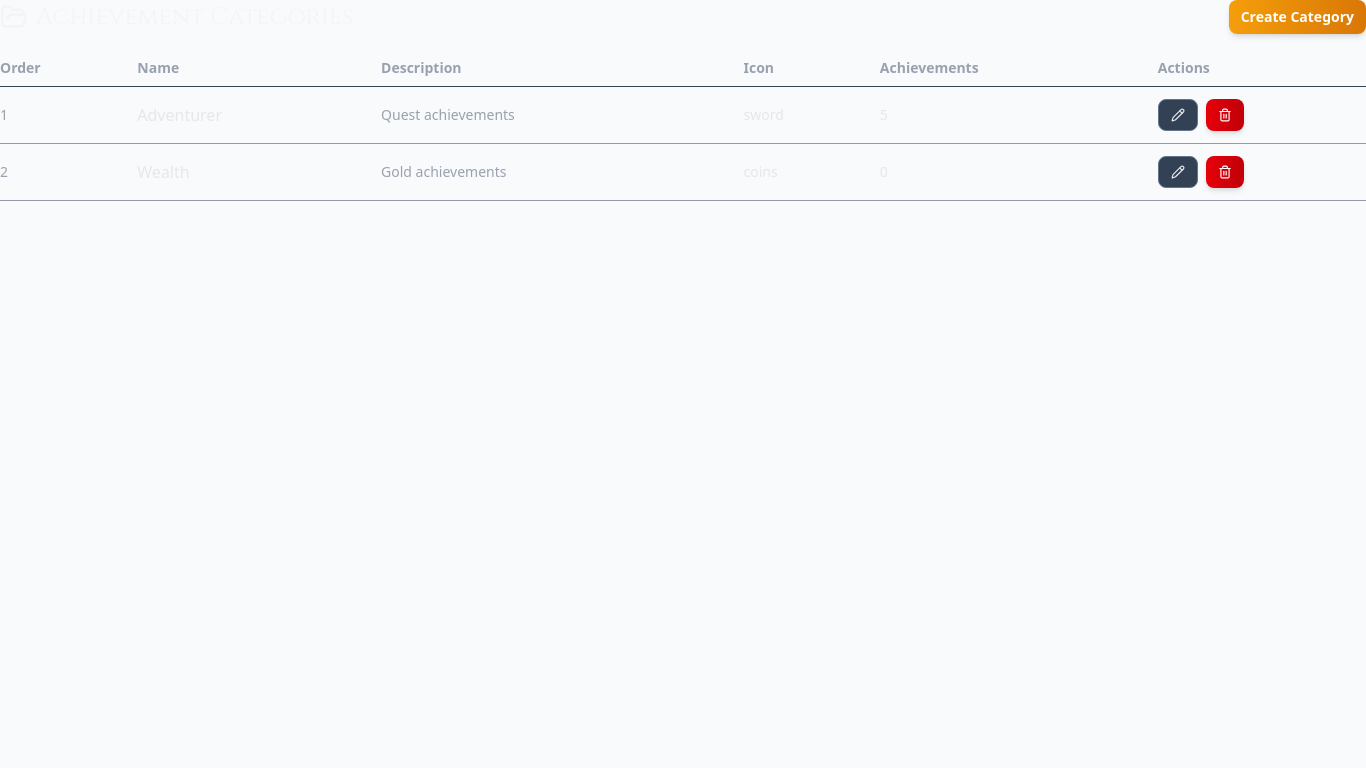
Test case: AchievementCategoryAdmin › opens create form when clicking create button
Expected: the text "Adventurer" is shown, [137,86,381,143]
Step 1. Click the button with test id "create-category-button" → (1297, 17), box [1229,0,1365,34]
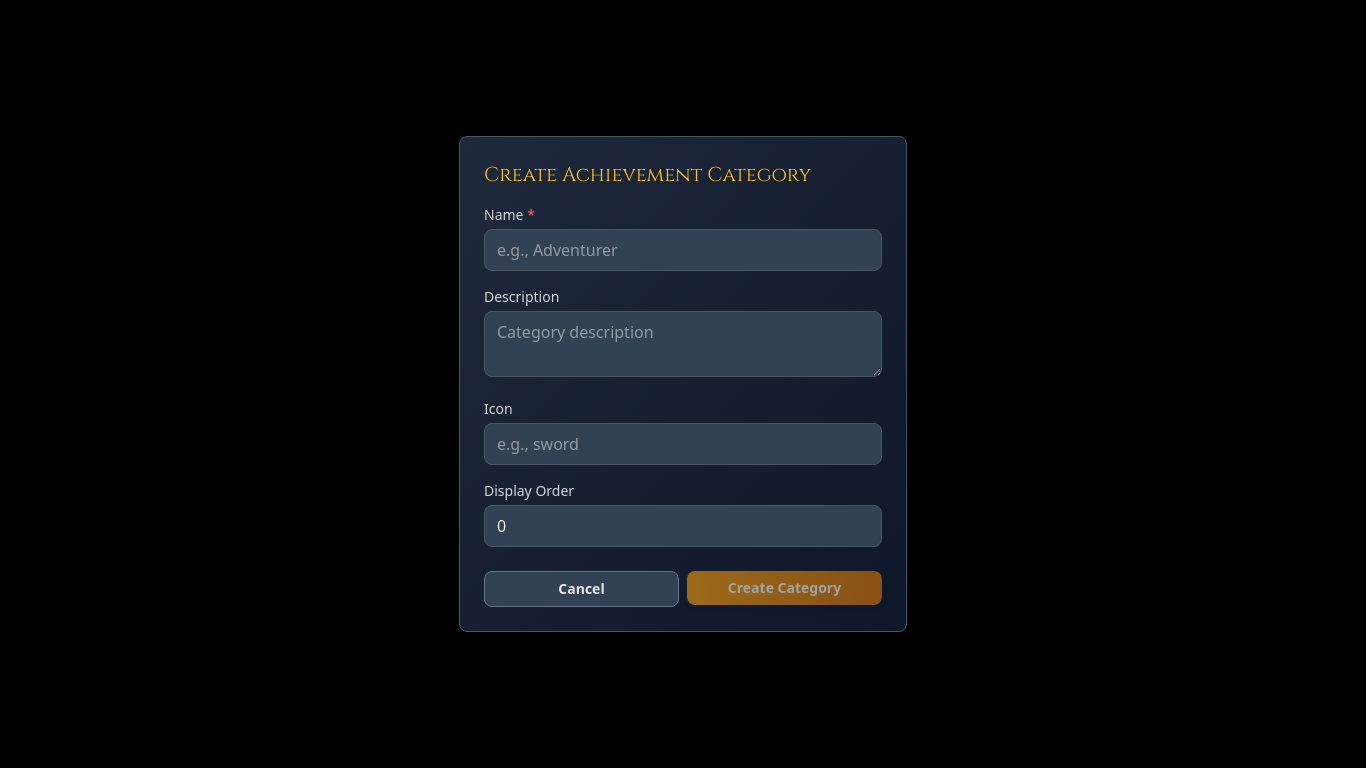
Expected: the element with test id "category-form" is shown, [459,136,907,632]
Expected: the heading "Create Achievement Category" is shown, [484,161,811,188]
